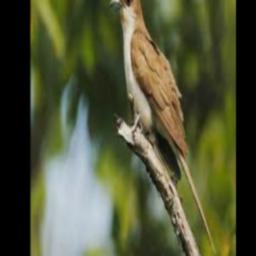Cuckoo: (109, 0, 215, 254)
